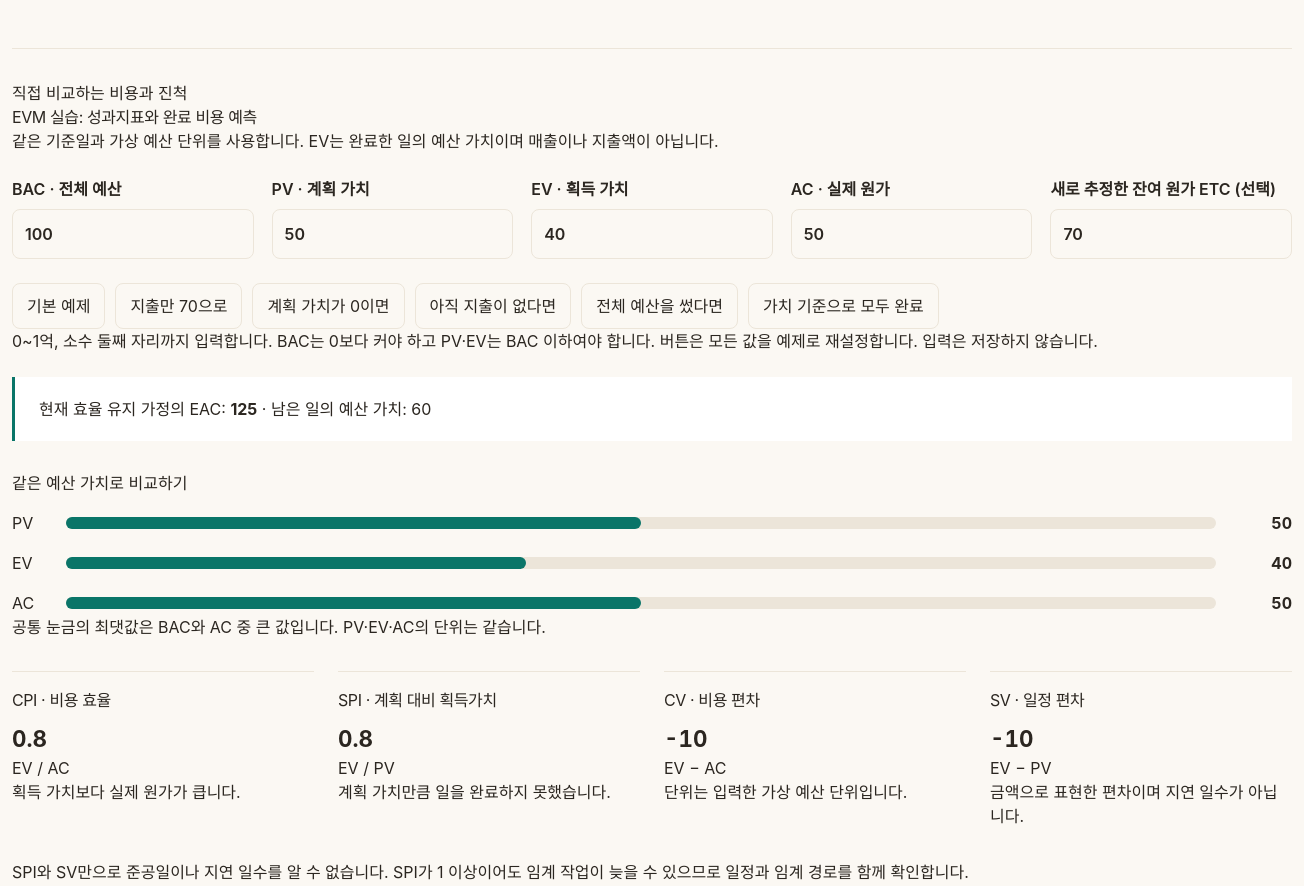
it: explains zero denominators, no earned work, depleted budget and completion separately
Click the button "아직 지출이 없다면" at (493, 306), box left=414, top=283, right=571, bottom=329
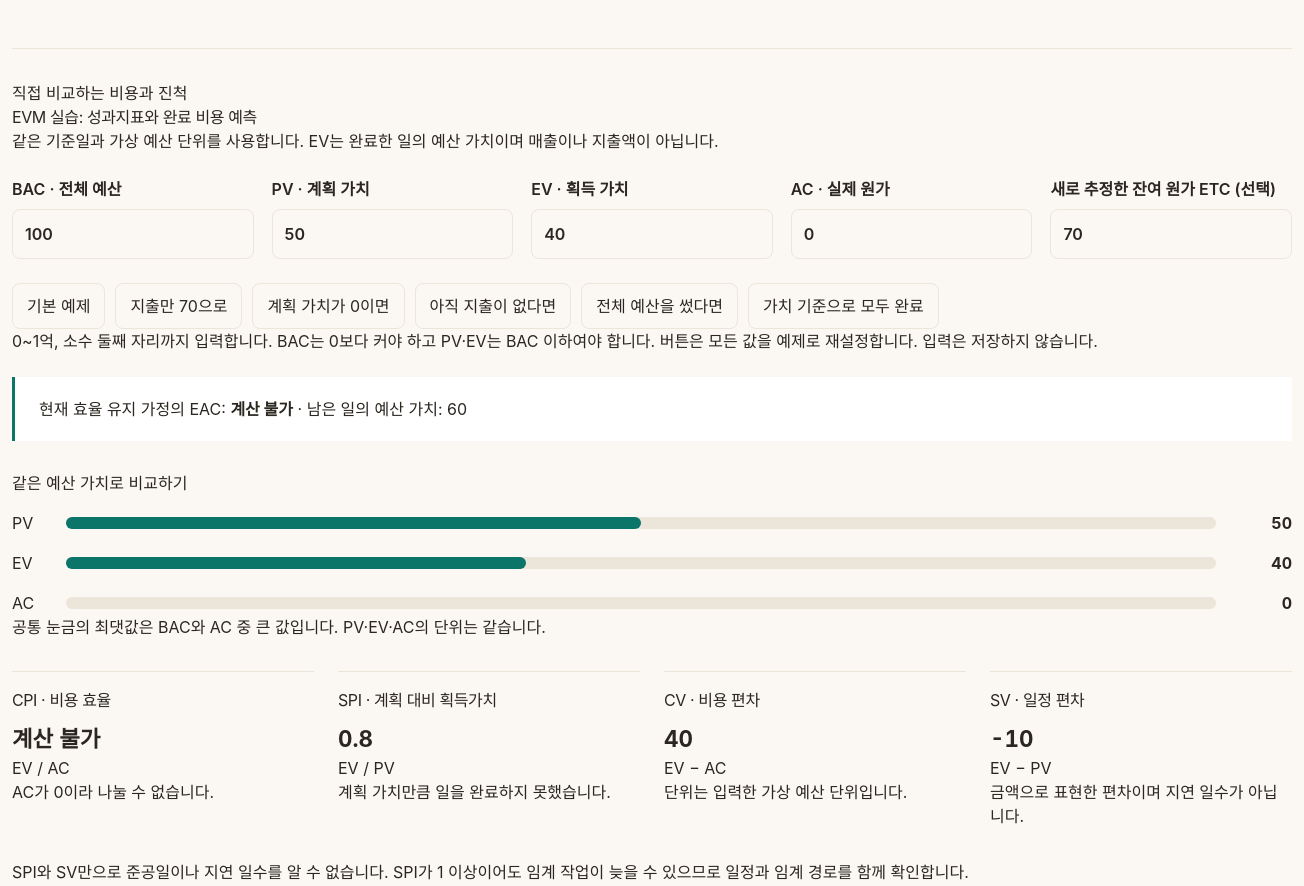
Now the text "AC가 0이라 나눌 수 없습니다." is shown, box left=12, top=782, right=214, bottom=802
Now the message shows "계산 불가", box left=230, top=399, right=293, bottom=419
Click the button "계획 가치가 0이면" at (328, 306), box left=252, top=283, right=404, bottom=329
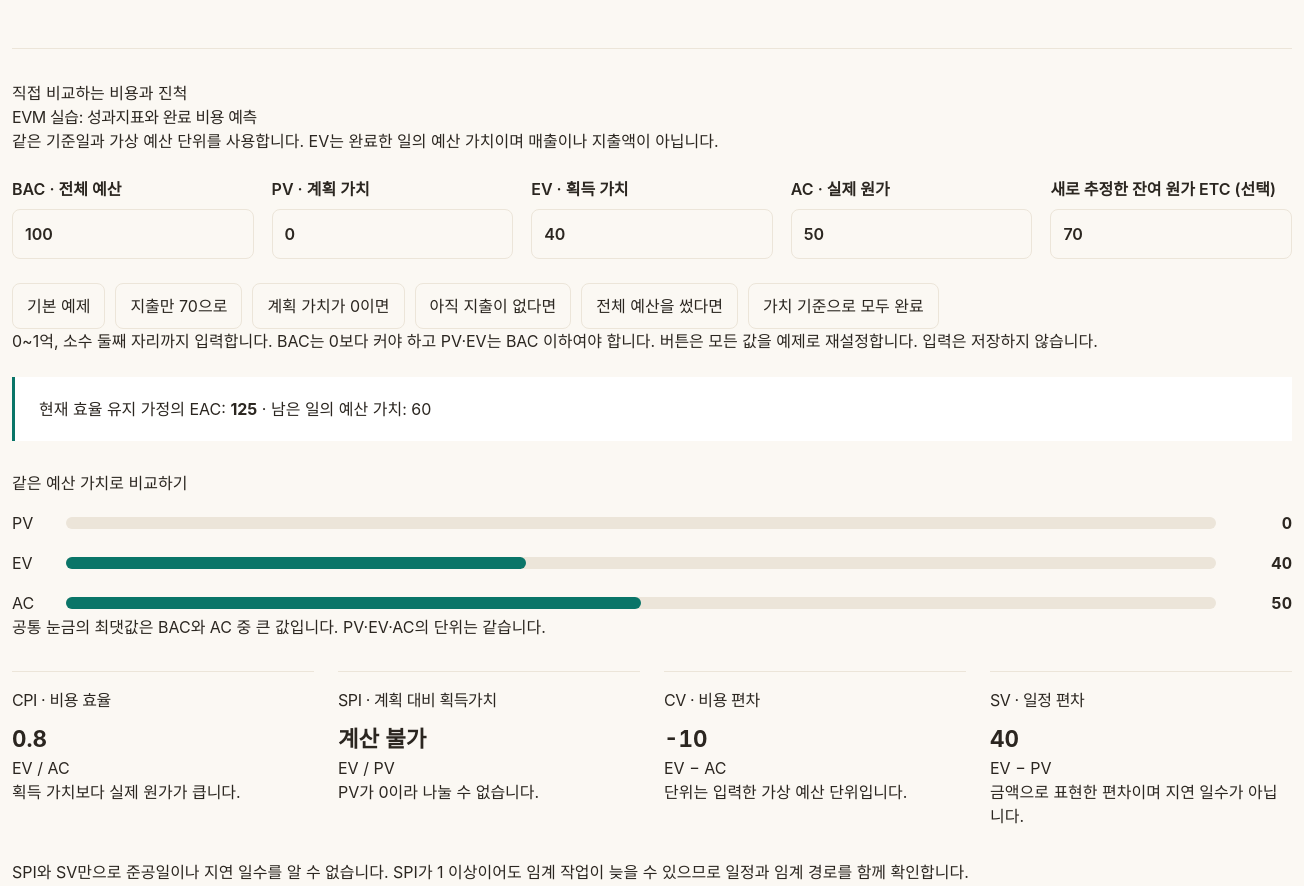
Now the text "PV가 0이라 나눌 수 없습니다." is shown, box left=338, top=782, right=539, bottom=802
Click the button "전체 예산을 썼다면" at (660, 306), box left=581, top=283, right=738, bottom=329
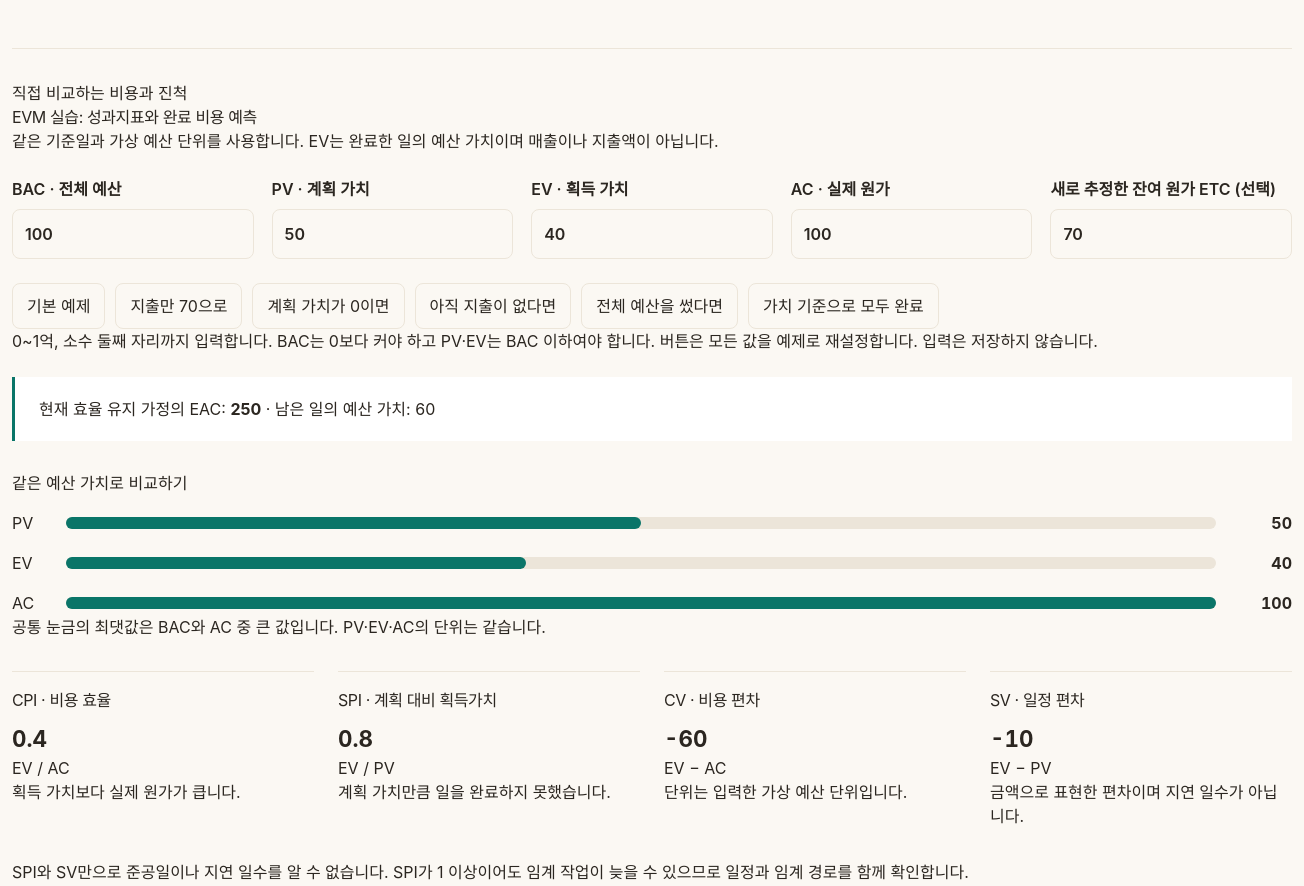
Click the button "가치 기준으로 모두 완료" at (843, 306), box left=748, top=283, right=939, bottom=329
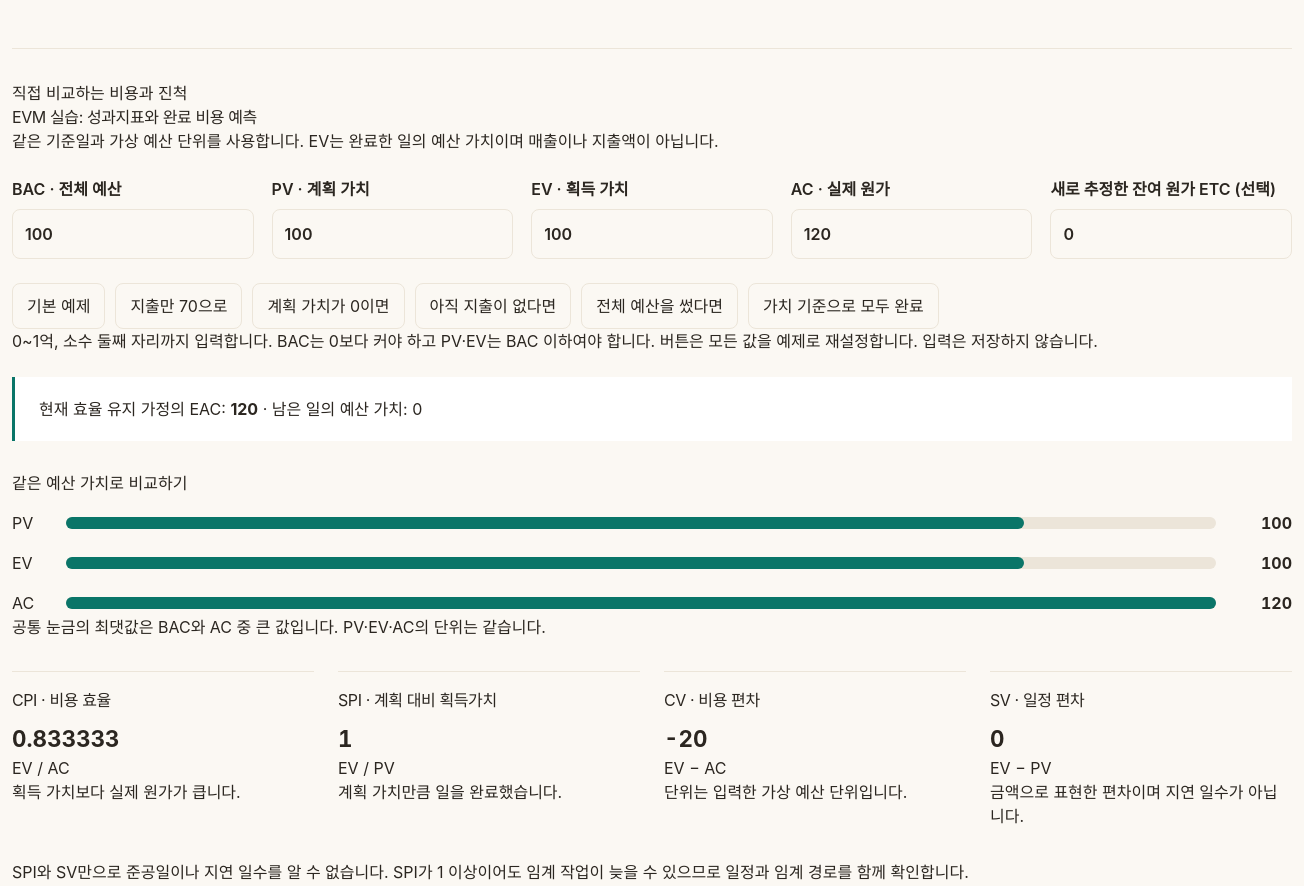
Click the button "기본 예제" at (59, 306), box left=12, top=283, right=105, bottom=329
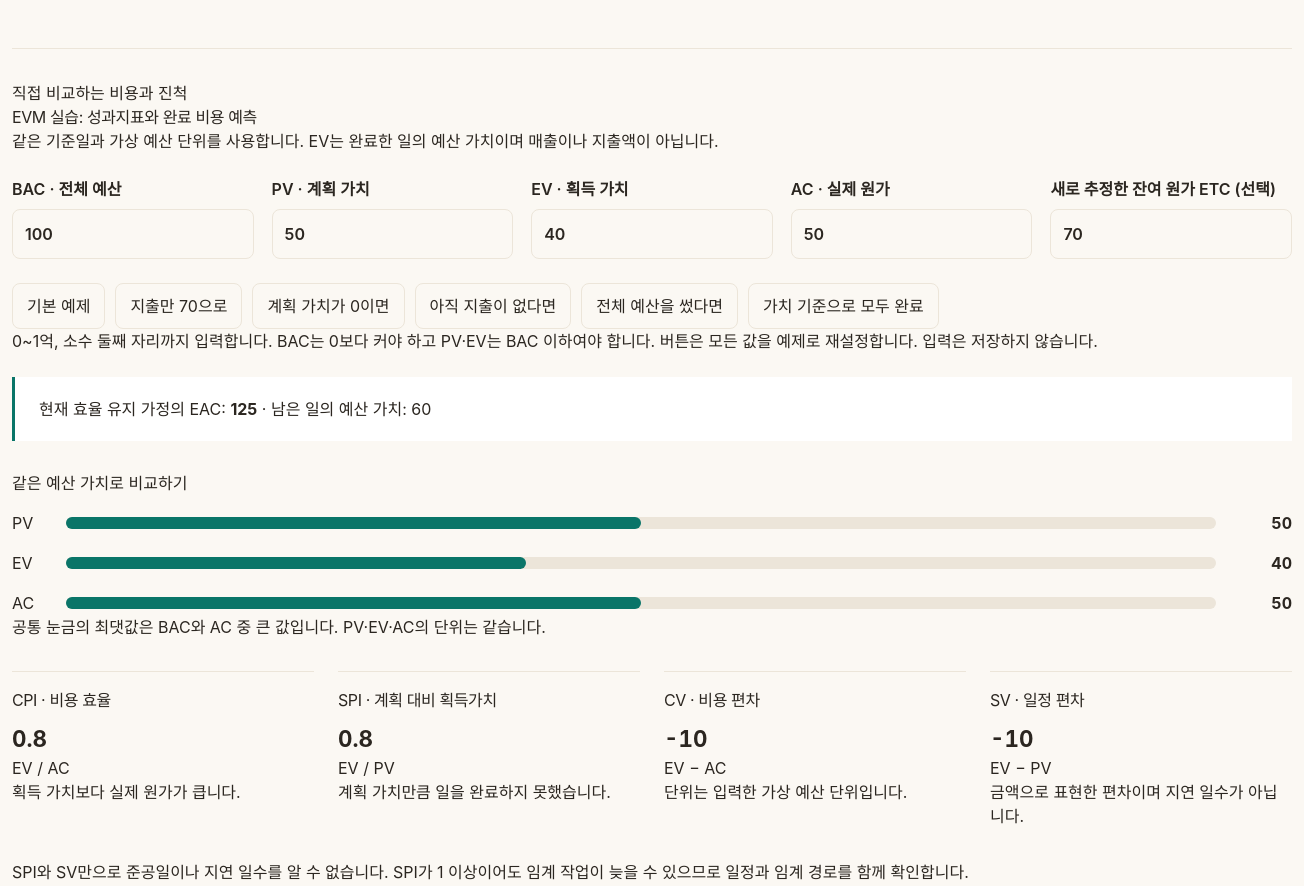
Replace the text in the number field labelled "EV · 획득 가치" with "0" at (652, 234), box left=531, top=209, right=773, bottom=259
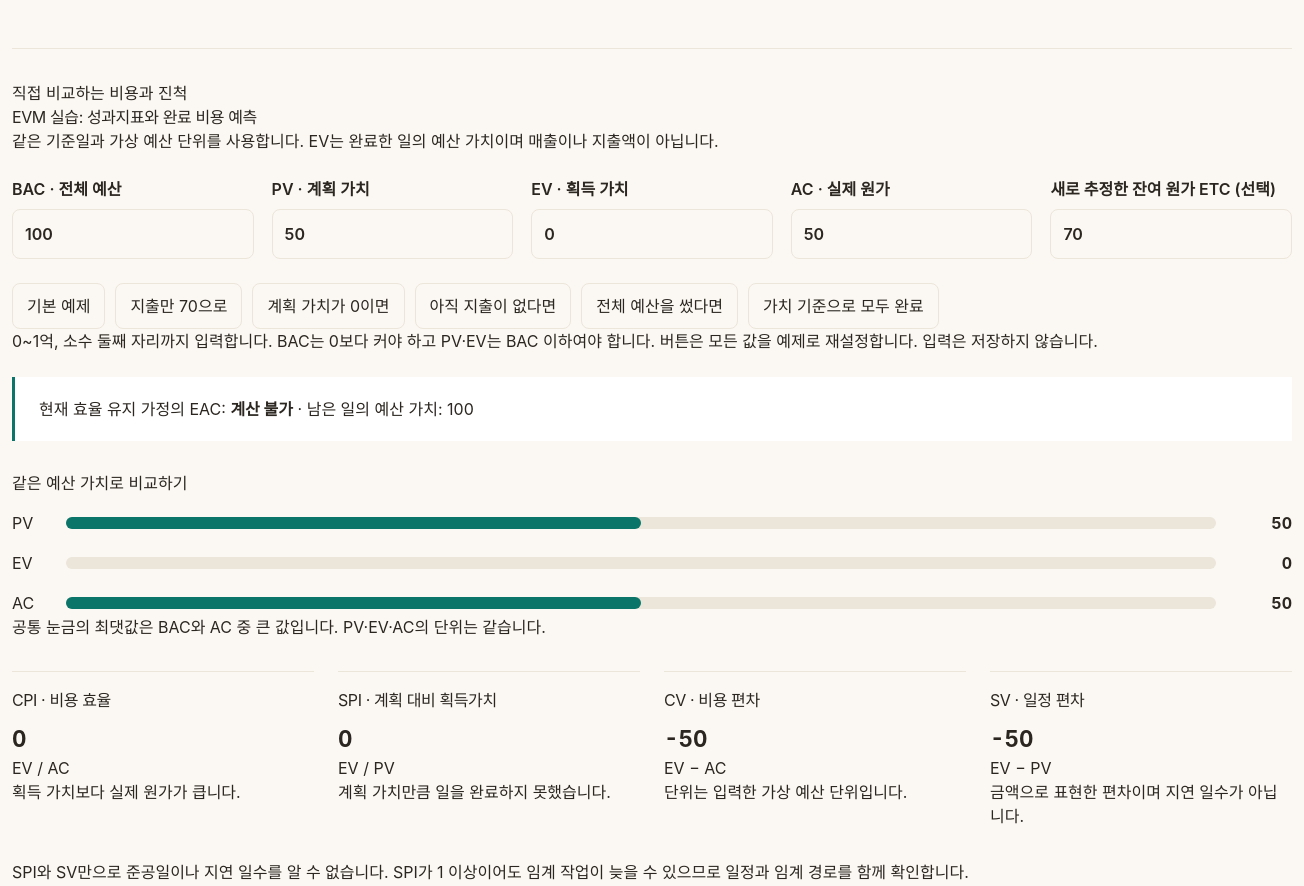
Expected: the text "0" is shown 2 times, left=12, top=725, right=26, bottom=752; left=338, top=725, right=352, bottom=752
Now the message shows "계산 불가", box left=230, top=399, right=293, bottom=419
